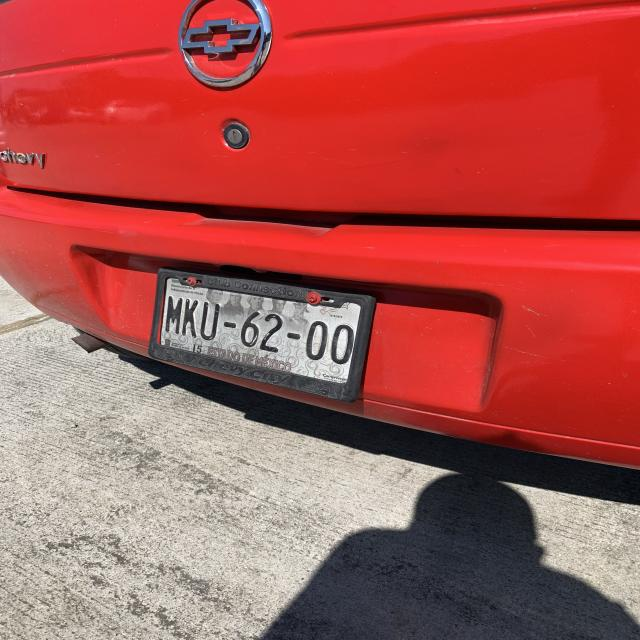placa: (154, 289, 394, 366)
